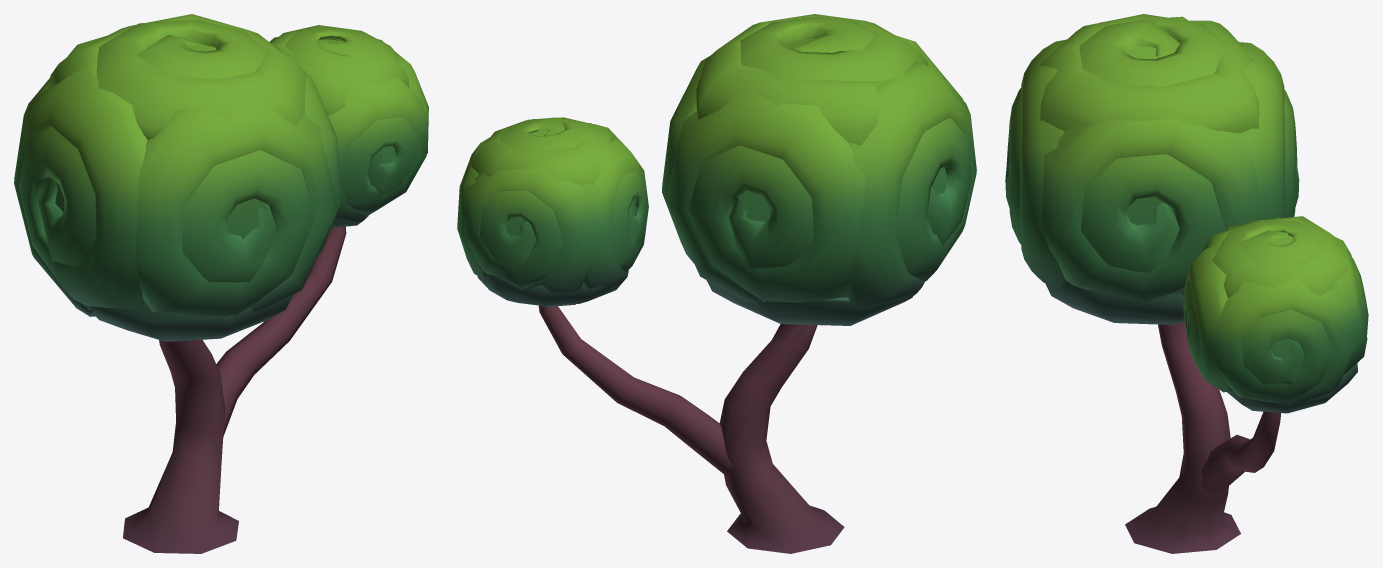
Rendered from tree_forest1b.fbx.
The picture shows the model from 3 angles, left to right: view 1: azimuth 30°, elevation 25°; view 2: azimuth 150°, elevation 25°; view 3: azimuth 270°, elevation 25°; orthographic projection. The views are drawn at different scales.
Visible parts, largest first — view 1: model_0.005; view 2: model_0.005; view 3: model_0.005.
Boxes of the visible parts, left/top/right/bottom form: model_0.005: left=14, top=14, right=428, bottom=553; model_0.005: left=457, top=14, right=976, bottom=553; model_0.005: left=1005, top=14, right=1368, bottom=553.
Size of the model in its own units: 3062 by 3448 by 2335.
